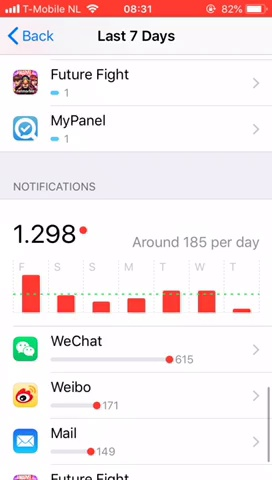not_app: (7, 326, 210, 371), (7, 372, 138, 419), (7, 422, 139, 464)
not_over: (4, 168, 114, 252)
pick_app: (4, 104, 137, 151), (6, 58, 151, 101)
week: (93, 29, 180, 45)
